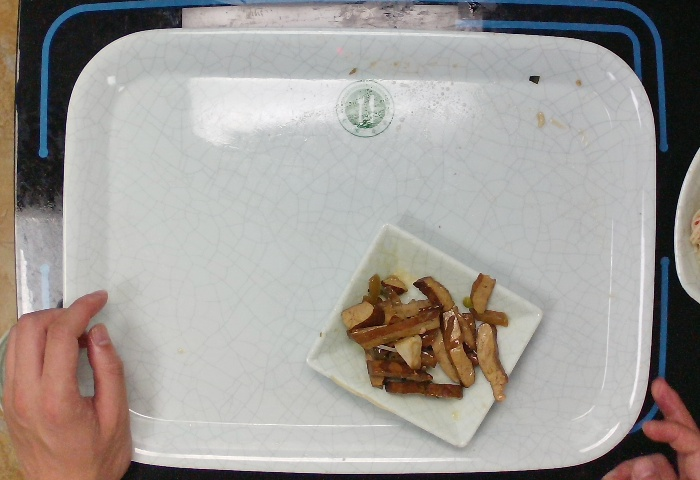WCQzf-Ru_Ci_Si_Fang_Die: (302, 219, 546, 451)
